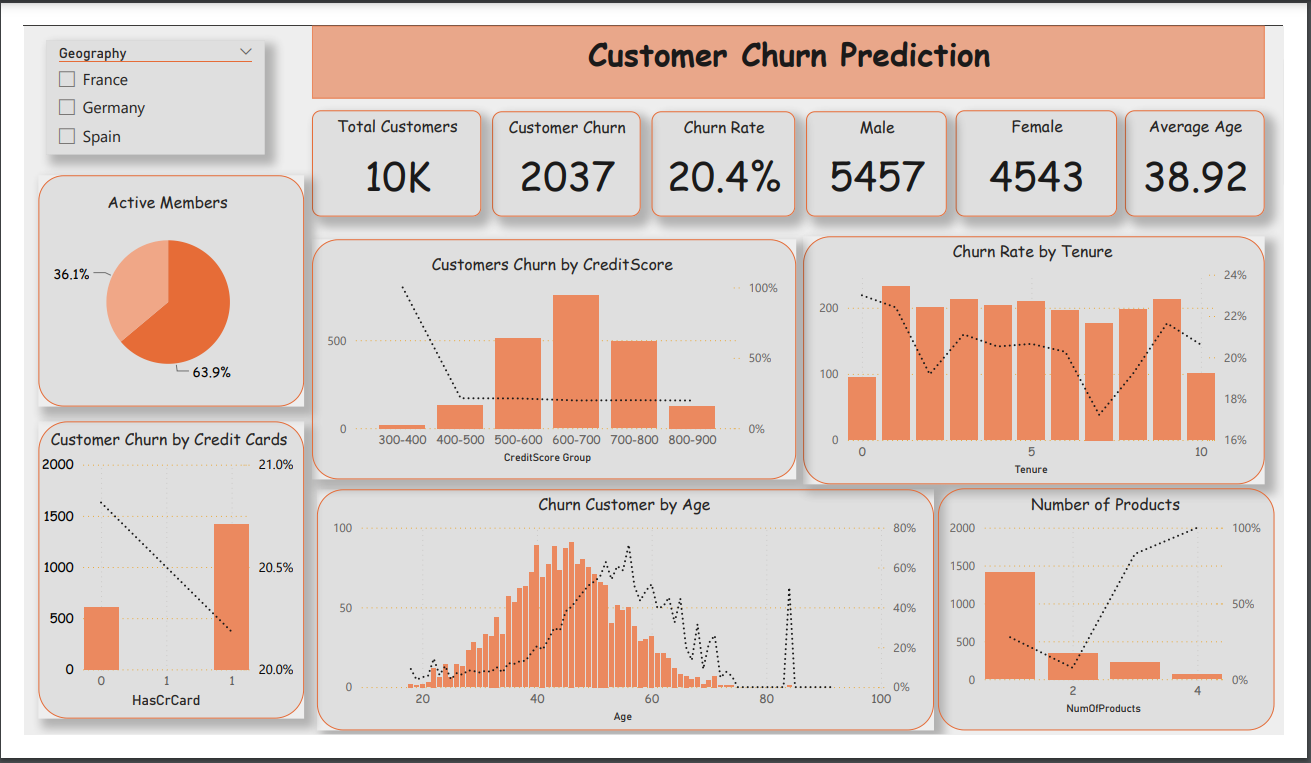

The page's visual inventory and layout, read from the dashboard file:
{"tool":"powerbi","page":{"name":"Customer_Churn_Prediction","canvas":[1280,720],"ordinal":0},"visuals":[{"type":"textbox","box":[293.1,0,968.3,74.5],"z":0},{"type":"card","title":"Customer Churn","fields":{"Values":["Sum(Churn_Modelling.Exited)"]},"box":[476.1,87.4,150.6,106.9],"z":1000},{"type":"card","title":"Total Customers","fields":{"Values":["Count(Churn_Modelling.CustomerId)"]},"box":[293.1,85.8,171.6,108.5],"z":2000},{"type":"card","title":"Average Age ","fields":{"Values":["Avg(Churn_Modelling.Age)"]},"box":[1118.9,85.8,142.5,108.5],"z":3000},{"type":"card","title":"Churn Rate","fields":{"Values":["Churn_Modelling.Churn Rate"]},"box":[638,87.4,145.7,106.9],"z":4000},{"type":"slicer","fields":{"Values":["Churn_Modelling.Geography"]},"box":[22.7,14.6,221.8,116.6],"z":5000},{"type":"shape","box":[14.6,152.2,270.4,234.8],"z":6000},{"type":"shape","box":[14.6,401.6,270.4,302.8],"z":7000},{"type":"shape","box":[791.8,213.7,469.6,252.6],"z":8000},{"type":"shape","box":[293.1,217,492.2,244.5],"z":9000},{"type":"shape","box":[297.9,471.2,626.6,244.5],"z":10000},{"type":"lineStackedColumnComboChart","title":"Churn Customer by Age","fields":{"Category":["Churn_Modelling.Age"],"Y":["Sum(Churn_Modelling.Exited)"],"Y2":["Churn_Modelling.Churn Rate"]},"box":[309.3,474.4,602.4,238],"z":11000},{"type":"lineStackedColumnComboChart","title":"Customers Churn by CreditScore","fields":{"Category":["Churn_Modelling.CreditScore Group"],"Y":["Sum(Churn_Modelling.Exited)"],"Y2":["Churn_Modelling.Churn Rate"]},"box":[302.8,229.9,469.6,218.6],"z":12000},{"type":"lineStackedColumnComboChart","title":"Customer Churn by Credit Cards","fields":{"Category":["Churn_Modelling.HasCrCard"],"Y":["Sum(Churn_Modelling.Exited)"],"Y2":["Churn_Modelling.Churn Rate"]},"box":[13,408,270.4,289.8],"z":13000},{"type":"pieChart","title":"Active Members","fields":{"Category":["Churn_Modelling.IsActiveMember"],"Y":["Sum(Churn_Modelling.Exited)"]},"box":[22.7,166.8,247.7,205.6],"z":14000},{"type":"shape","box":[929.4,469.6,341.7,246.1],"z":15000},{"type":"lineStackedColumnComboChart","title":"Number of Products","fields":{"Category":["Churn_Modelling.NumOfProducts"],"Y":["Sum(Churn_Modelling.Exited)"],"Y2":["Churn_Modelling.Churn Rate"]},"box":[935.9,474.4,327.1,229.9],"z":16000},{"type":"lineStackedColumnComboChart","title":"Churn Rate by Tenure","fields":{"Category":["Churn_Modelling.Tenure"],"Y":["Sum(Churn_Modelling.Exited)"],"Y2":["Churn_Modelling.Churn Rate"]},"box":[803.1,217,445.3,244.5],"z":17000},{"type":"card","title":"Female","fields":{"Values":["Churn_Modelling.Female"]},"box":[947.2,85.8,163.5,108.5],"z":18000},{"type":"card","title":"Male","fields":{"Values":["Churn_Modelling.Male"]},"box":[795,87.4,142.5,106.9],"z":19000}]}

Visuals, with their boxes on the page's 1280x720 design canvas (x1, y1, x2, y2). These are canvas units, not pixel positions in the 1311x763 screenshot, which may show the page scaled, cropped or inside an application window:
textbox: box=[293, 0, 1261, 74]
"Customer Churn" card: box=[476, 87, 627, 194]
"Total Customers" card: box=[293, 86, 465, 194]
"Average Age " card: box=[1119, 86, 1261, 194]
"Churn Rate" card: box=[638, 87, 784, 194]
slicer - Churn_Modelling.Geography: box=[23, 15, 244, 131]
shape: box=[15, 152, 285, 387]
shape: box=[15, 402, 285, 704]
shape: box=[792, 214, 1261, 466]
shape: box=[293, 217, 785, 462]
shape: box=[298, 471, 924, 716]
"Churn Customer by Age" lineStackedColumnComboChart: box=[309, 474, 912, 712]
"Customers Churn by CreditScore" lineStackedColumnComboChart: box=[303, 230, 772, 448]
"Customer Churn by Credit Cards" lineStackedColumnComboChart: box=[13, 408, 283, 698]
"Active Members" pieChart: box=[23, 167, 270, 372]
shape: box=[929, 470, 1271, 716]
"Number of Products" lineStackedColumnComboChart: box=[936, 474, 1263, 704]
"Churn Rate by Tenure" lineStackedColumnComboChart: box=[803, 217, 1248, 462]
"Female" card: box=[947, 86, 1111, 194]
"Male" card: box=[795, 87, 938, 194]
